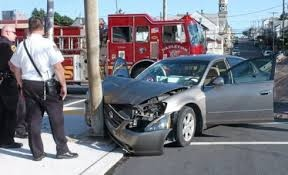Broken-glass: (127, 104, 165, 130)
Smashed: (87, 86, 191, 153)
